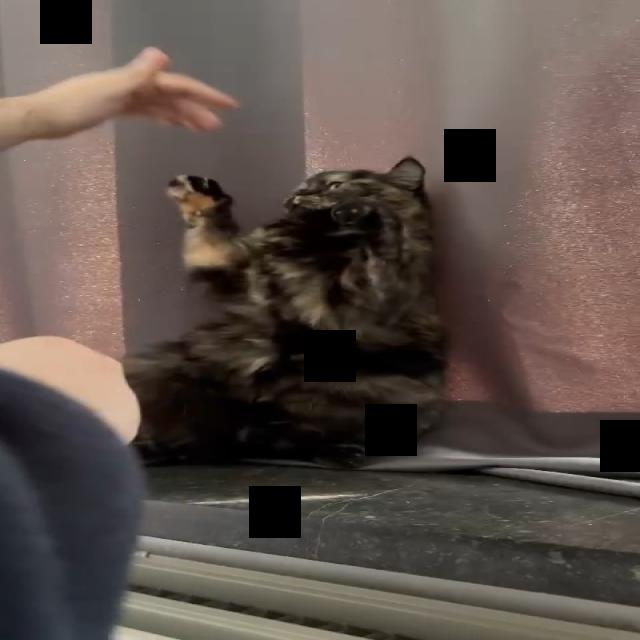authorized: (120, 156, 451, 468)
